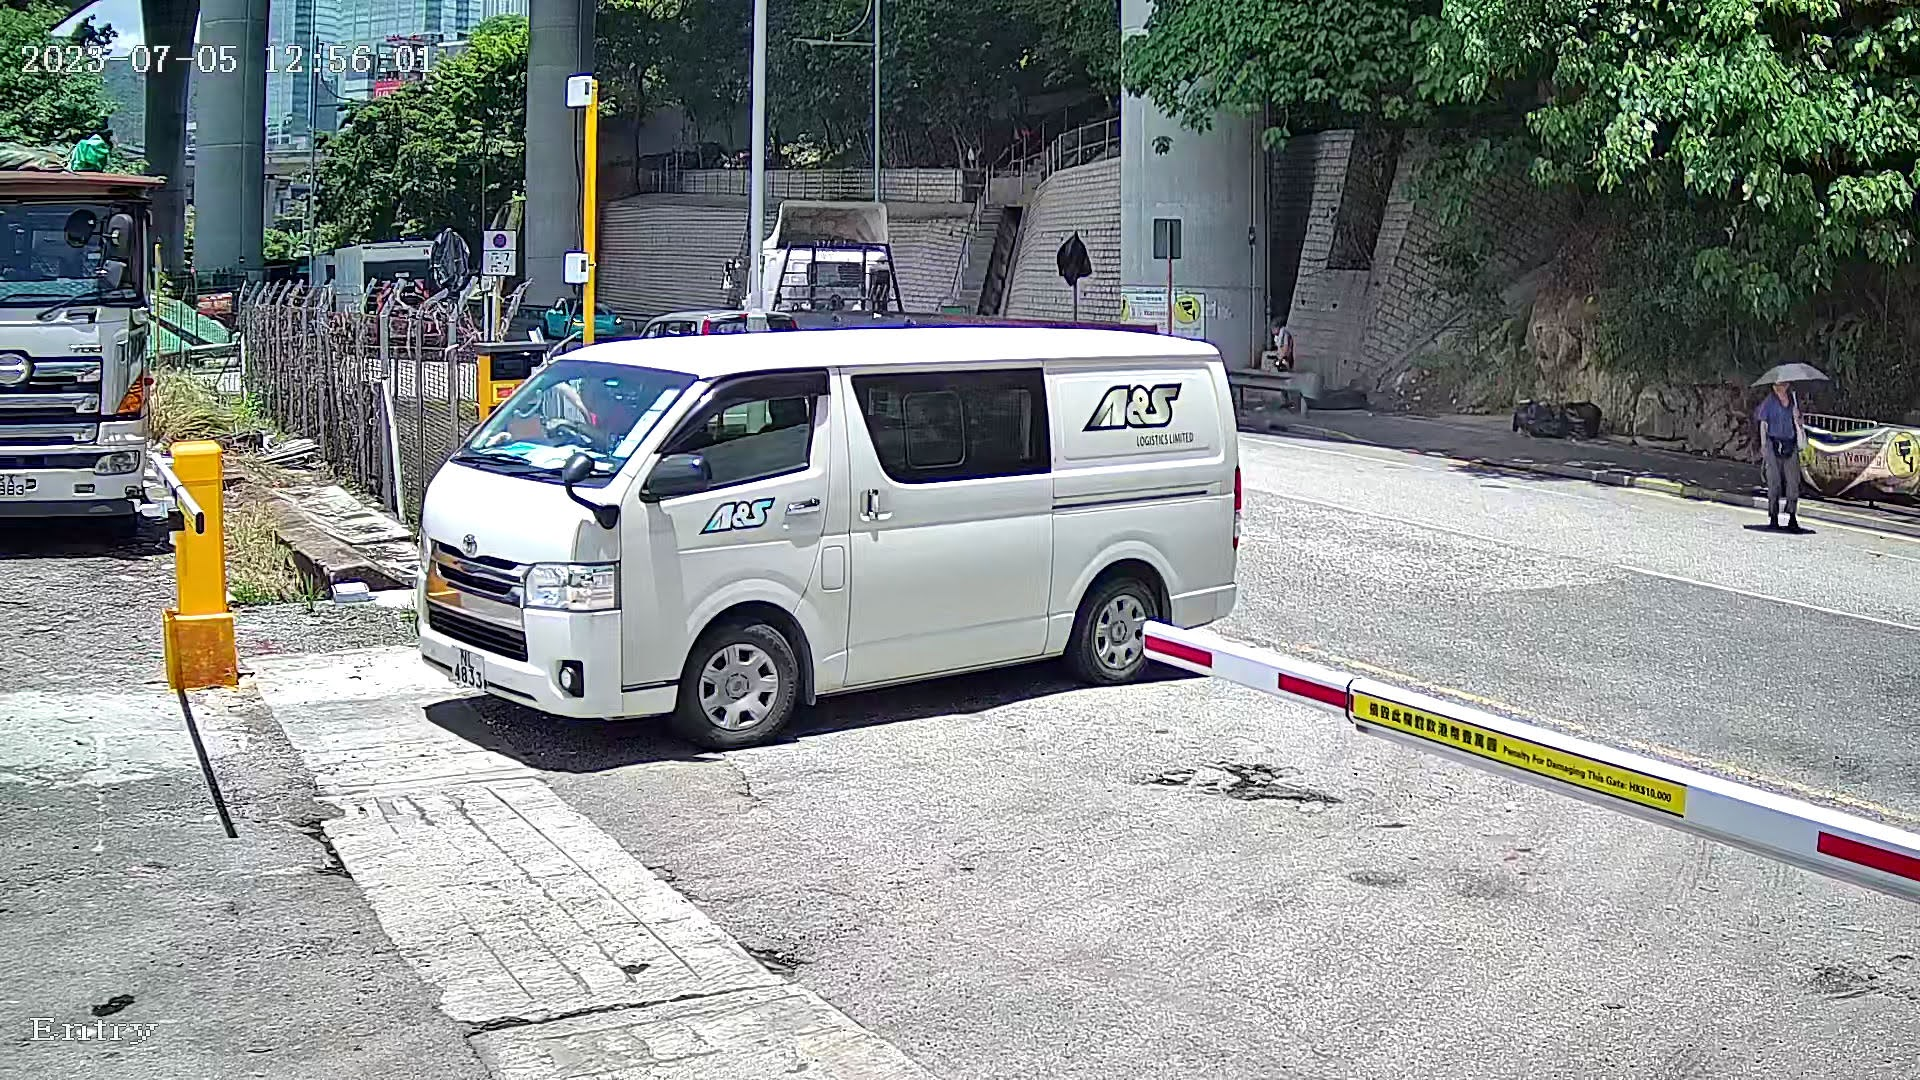privatecar: (377, 280, 1325, 822)
